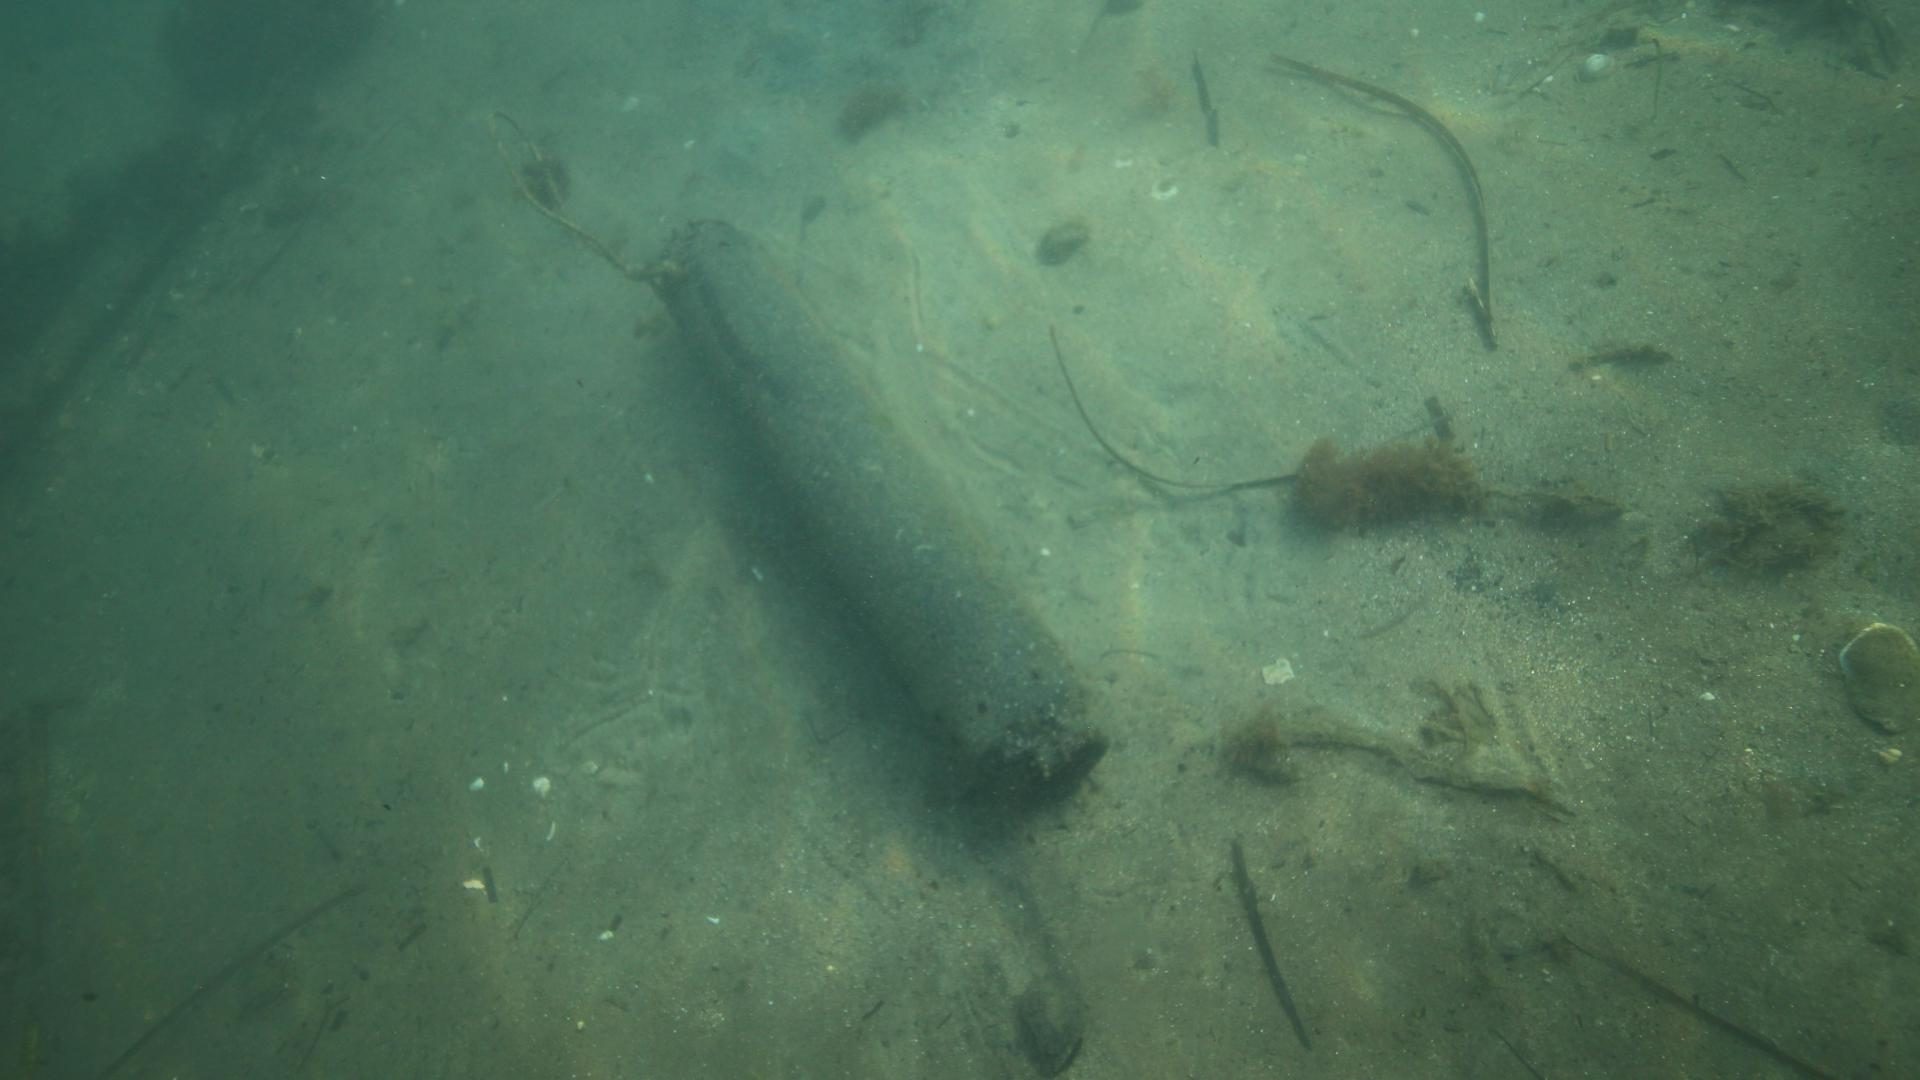bundle of ropes: (485, 98, 642, 274)
eel fish trap: (651, 208, 1121, 810)
